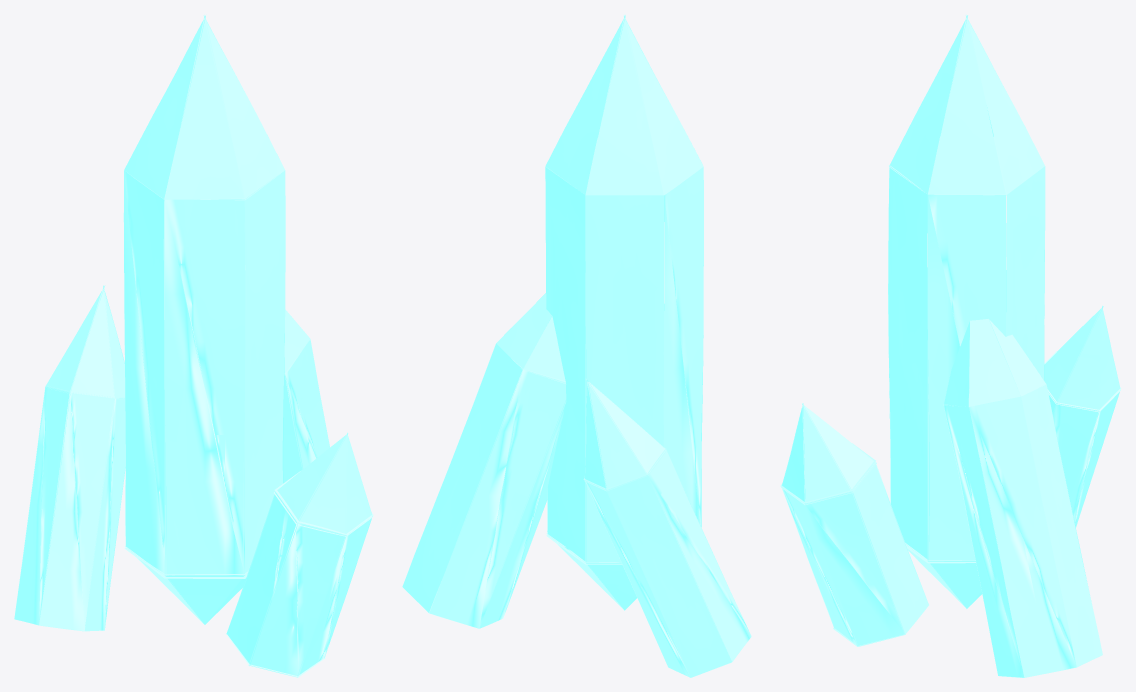
The model's file is crystal_cluster.glb.
3 views of the same model, side by side, from view 1: azimuth 30°, elevation 25°; view 2: azimuth 150°, elevation 25°; view 3: azimuth 270°, elevation 25° (orthographic). The views are drawn at different scales.
Visible parts, largest first — view 1: CrystalShard0Shaft; view 2: CrystalShard0Shaft; view 3: CrystalShard0Shaft.
Part boxes in pixels (box(x1,y1,x2,y2)): CrystalShard0Shaft: box(14, 14, 373, 677); CrystalShard0Shaft: box(402, 15, 751, 677); CrystalShard0Shaft: box(780, 14, 1121, 677).
Size of the model in its own units: 1.31 by 2.38 by 1.22.
